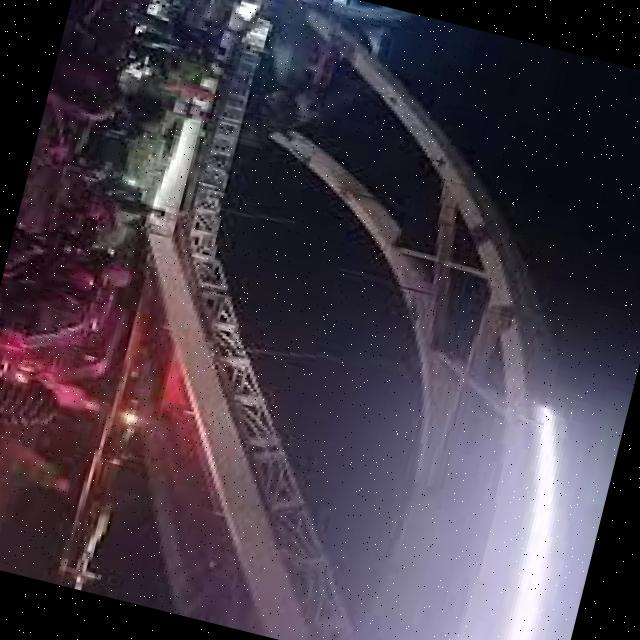bridge collapse: (0, 0, 548, 601)
